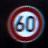Speed Limit -60-: (6, 5, 43, 42)
